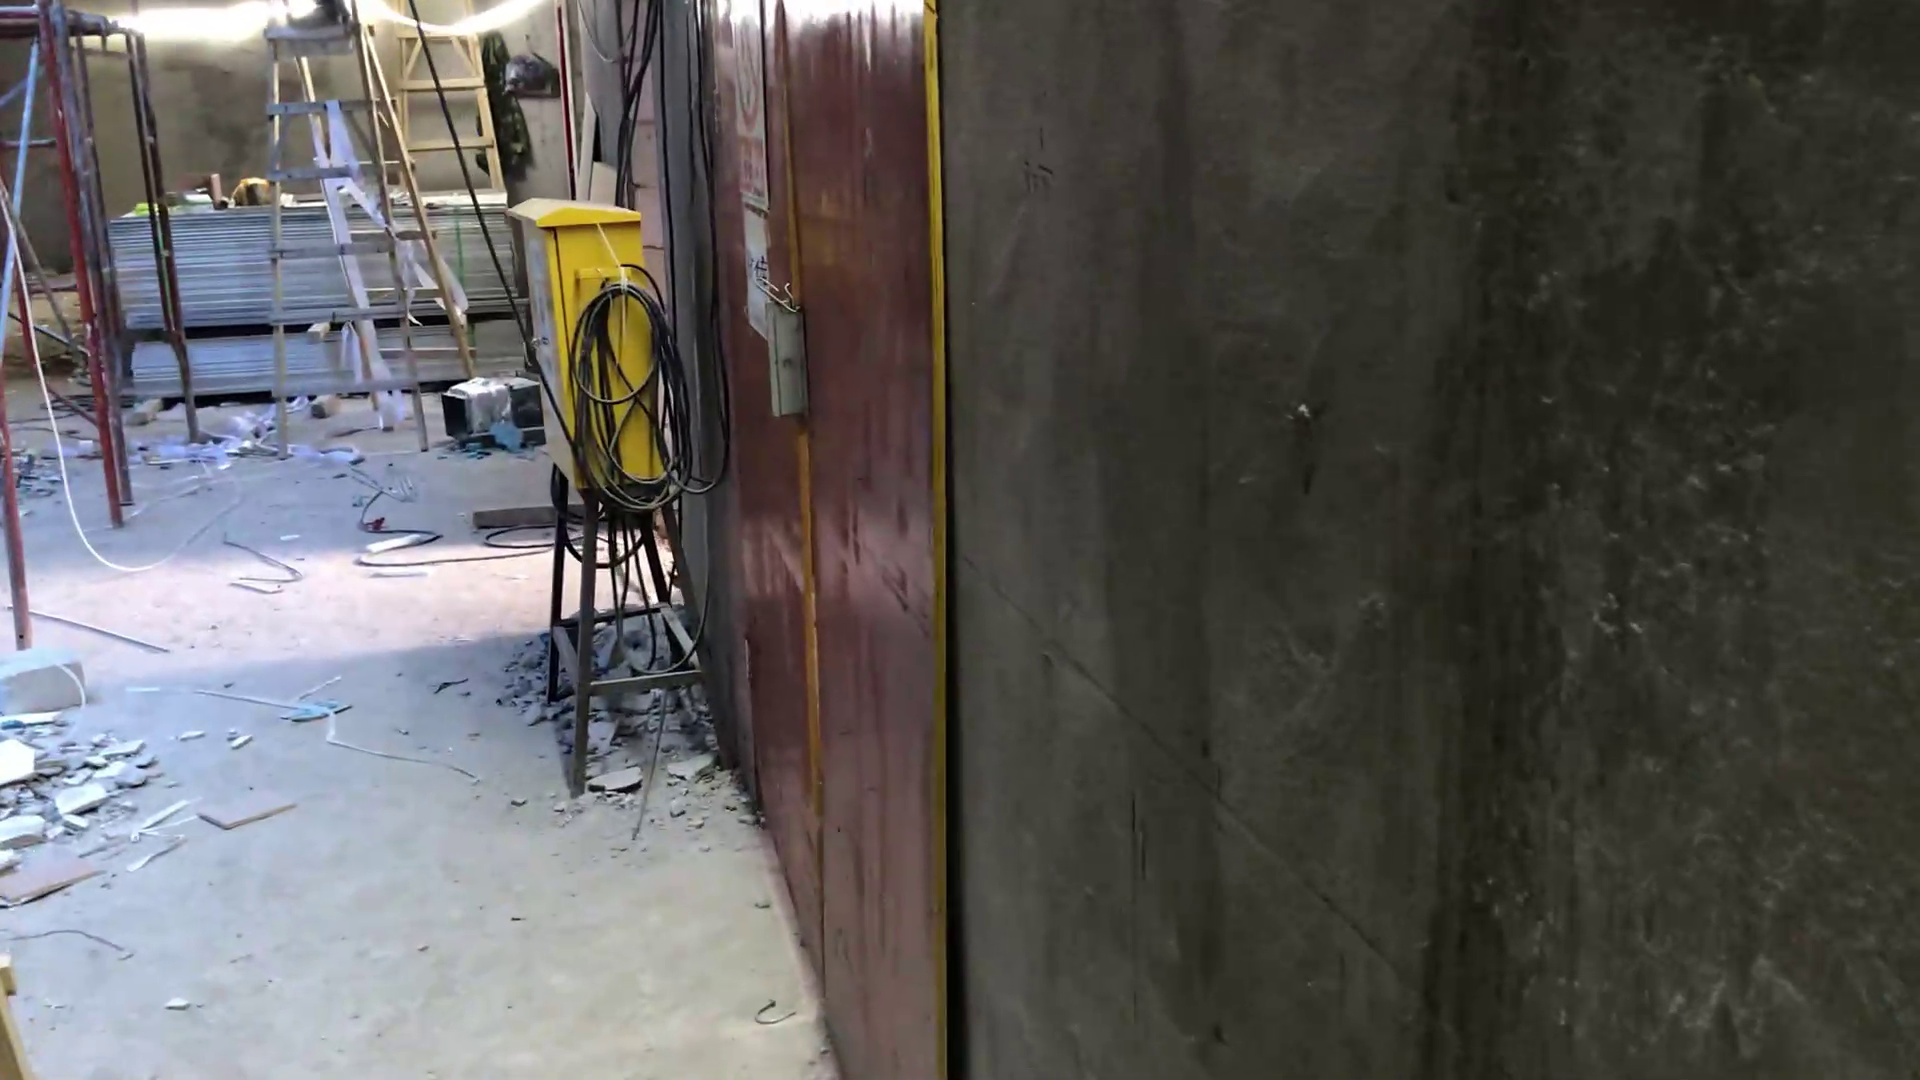ebox: (495, 194, 707, 810)
